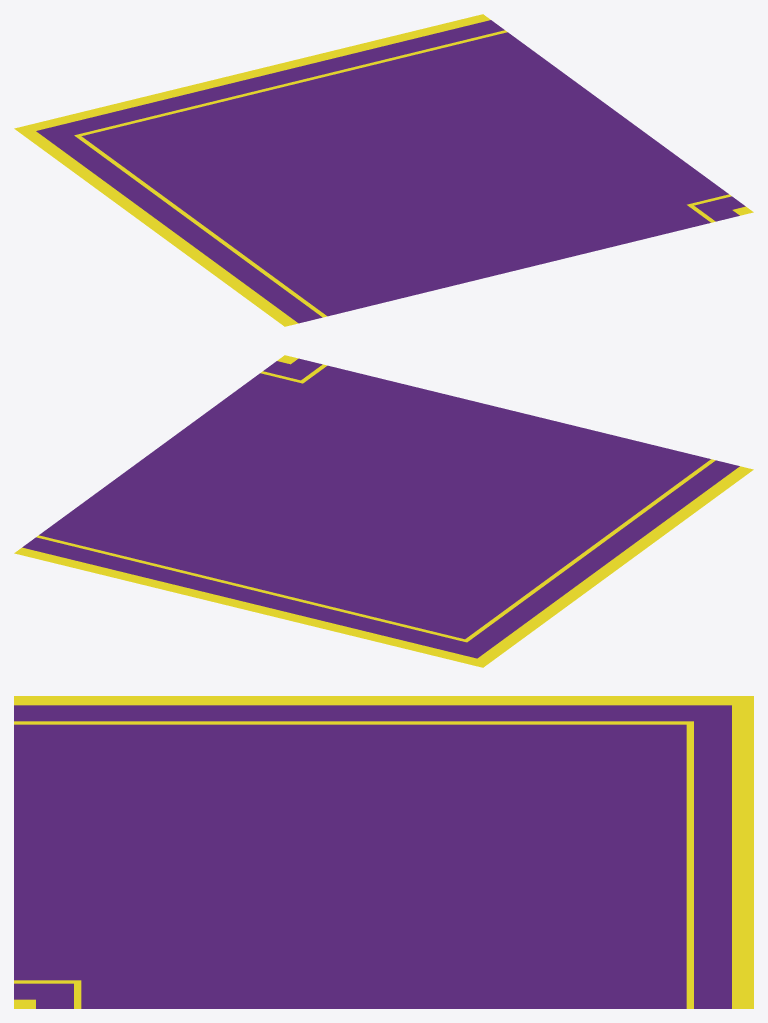
File: right_connector.fbx
The picture shows the model from 3 angles, top to bottom: view 1: azimuth 30°, elevation 25°; view 2: azimuth 150°, elevation 25°; view 3: azimuth 270°, elevation 25°; orthographic projection. The views are drawn at different scales.
Parts seen in each view (by area): view 1: right_connector_library; view 2: right_connector_library; view 3: right_connector_library.
Part boxes in pixels (box(x1,y1,x2,y2)): right_connector_library: box(14, 14, 753, 326); right_connector_library: box(14, 355, 753, 667); right_connector_library: box(14, 696, 753, 1008).
Bounding box in the file's own units: 816 × 2.99e-05 × 816.
